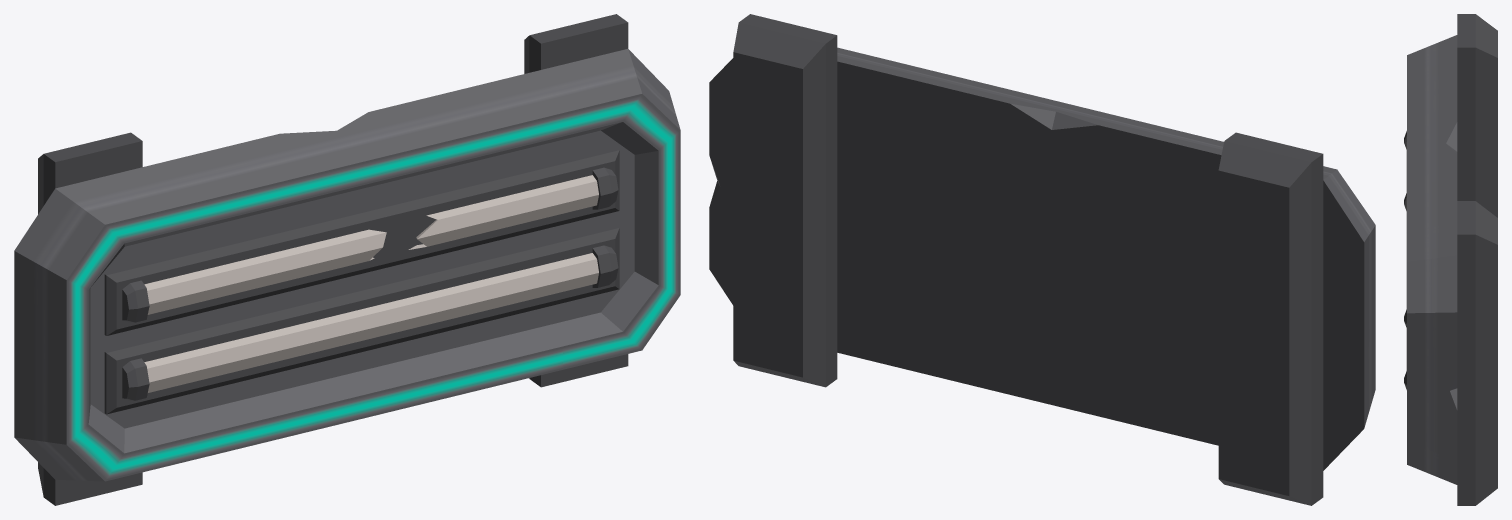
Rendered from SM_Prop_Street_Light_13.fbx.
The picture shows the model from 3 angles, left to right: view 1: azimuth 30°, elevation 25°; view 2: azimuth 150°, elevation 25°; view 3: azimuth 270°, elevation 25°; orthographic projection. The views are drawn at different scales.
Visible parts, largest first — view 1: SM_Prop_Street_Light_13; view 2: SM_Prop_Street_Light_13; view 3: SM_Prop_Street_Light_13.
Boxes of the visible parts, bbox=[...] form: SM_Prop_Street_Light_13: bbox=[14, 14, 680, 505]; SM_Prop_Street_Light_13: bbox=[709, 14, 1375, 505]; SM_Prop_Street_Light_13: bbox=[1404, 14, 1497, 505].
Bounding box in the file's own units: 121 × 60.5 × 18.98.
